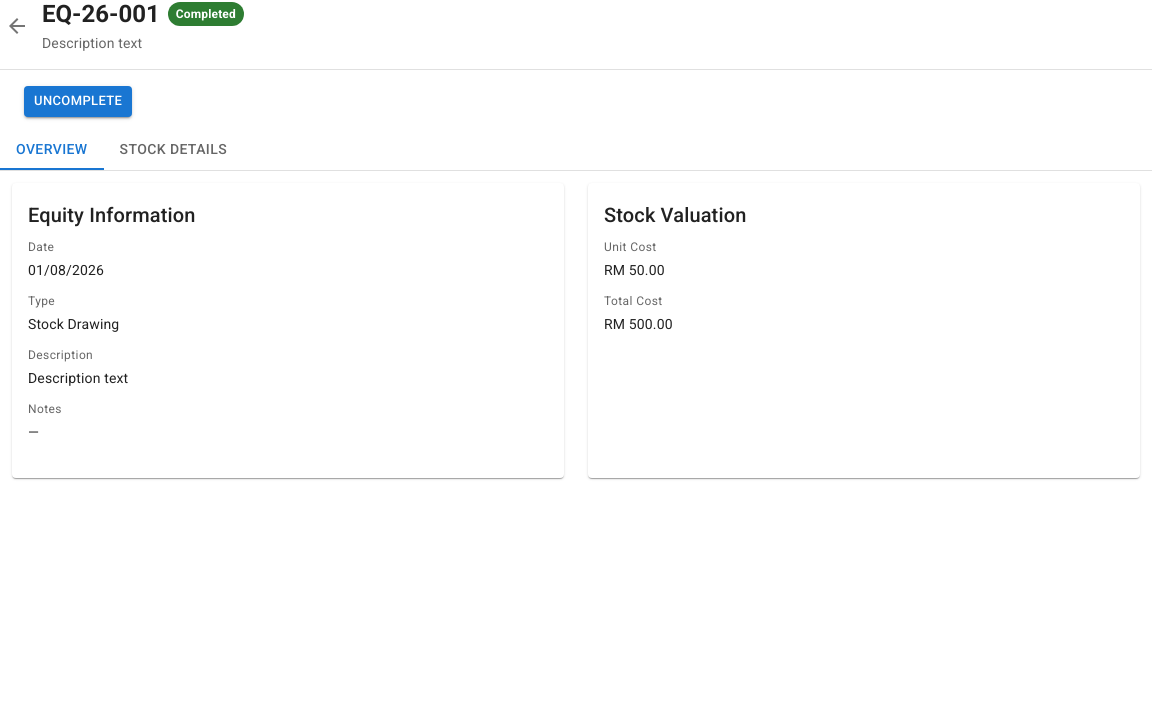
Test: OwnerEquityDetailView › opens a confirmation dialog when Uncomplete is clicked
The width and height of the screenshot is (1152, 720).
Click the button "Uncomplete". click: (78, 101)
box: [24,86,132,117]
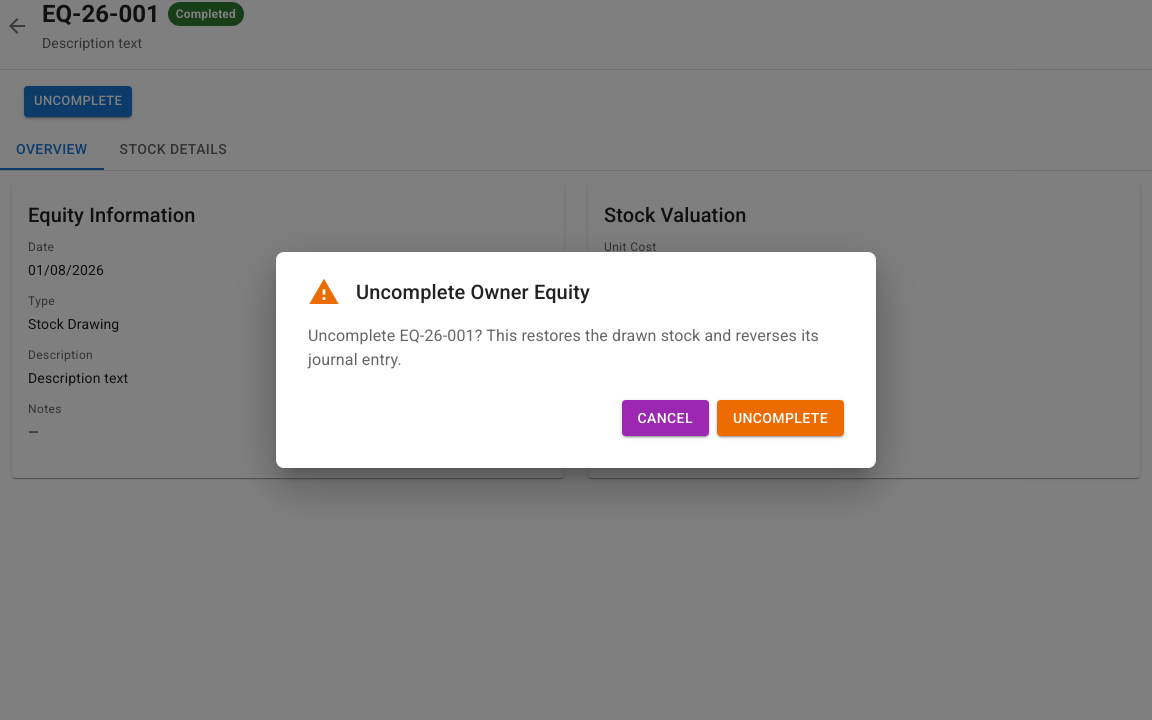
Check: the text "Uncomplete Owner Equity" is shown, box [356,276,590,308]
Check: the button "Uncomplete" is shown, box [717,400,844,436]
